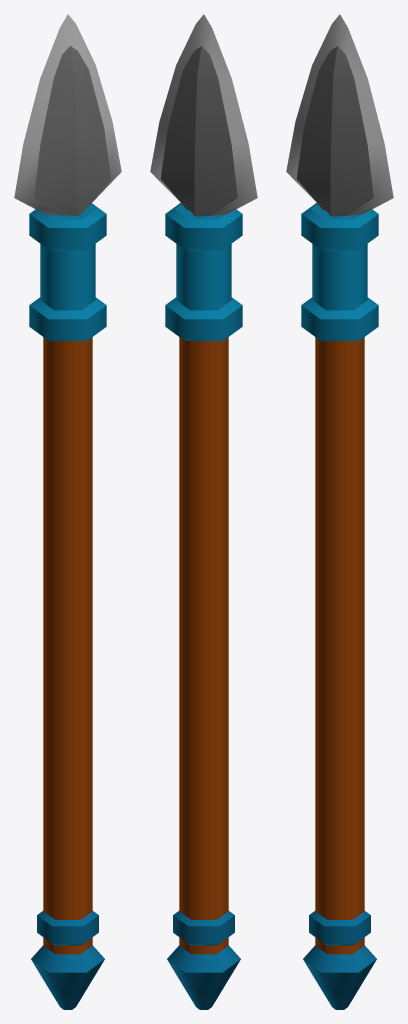
File: Weapon_Spear_lvl01.fbx
3 views of the same model, side by side, from view 1: azimuth 30°, elevation 25°; view 2: azimuth 150°, elevation 25°; view 3: azimuth 330°, elevation 25° (orthographic).
Visible parts, largest first — view 1: Weapon_Spear_lvl01; view 2: Weapon_Spear_lvl01; view 3: Weapon_Spear_lvl01.
Part boxes in pixels (x1,y1,x2,y2): Weapon_Spear_lvl01: (14, 14, 121, 1009); Weapon_Spear_lvl01: (150, 14, 257, 1009); Weapon_Spear_lvl01: (286, 14, 393, 1009).
Bounding box in the file's own units: 29.75 × 262 × 18.55.
